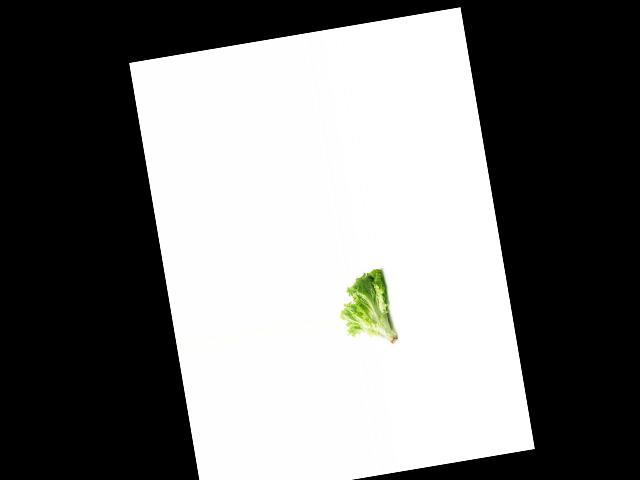lettuce: (333, 267, 400, 353)
